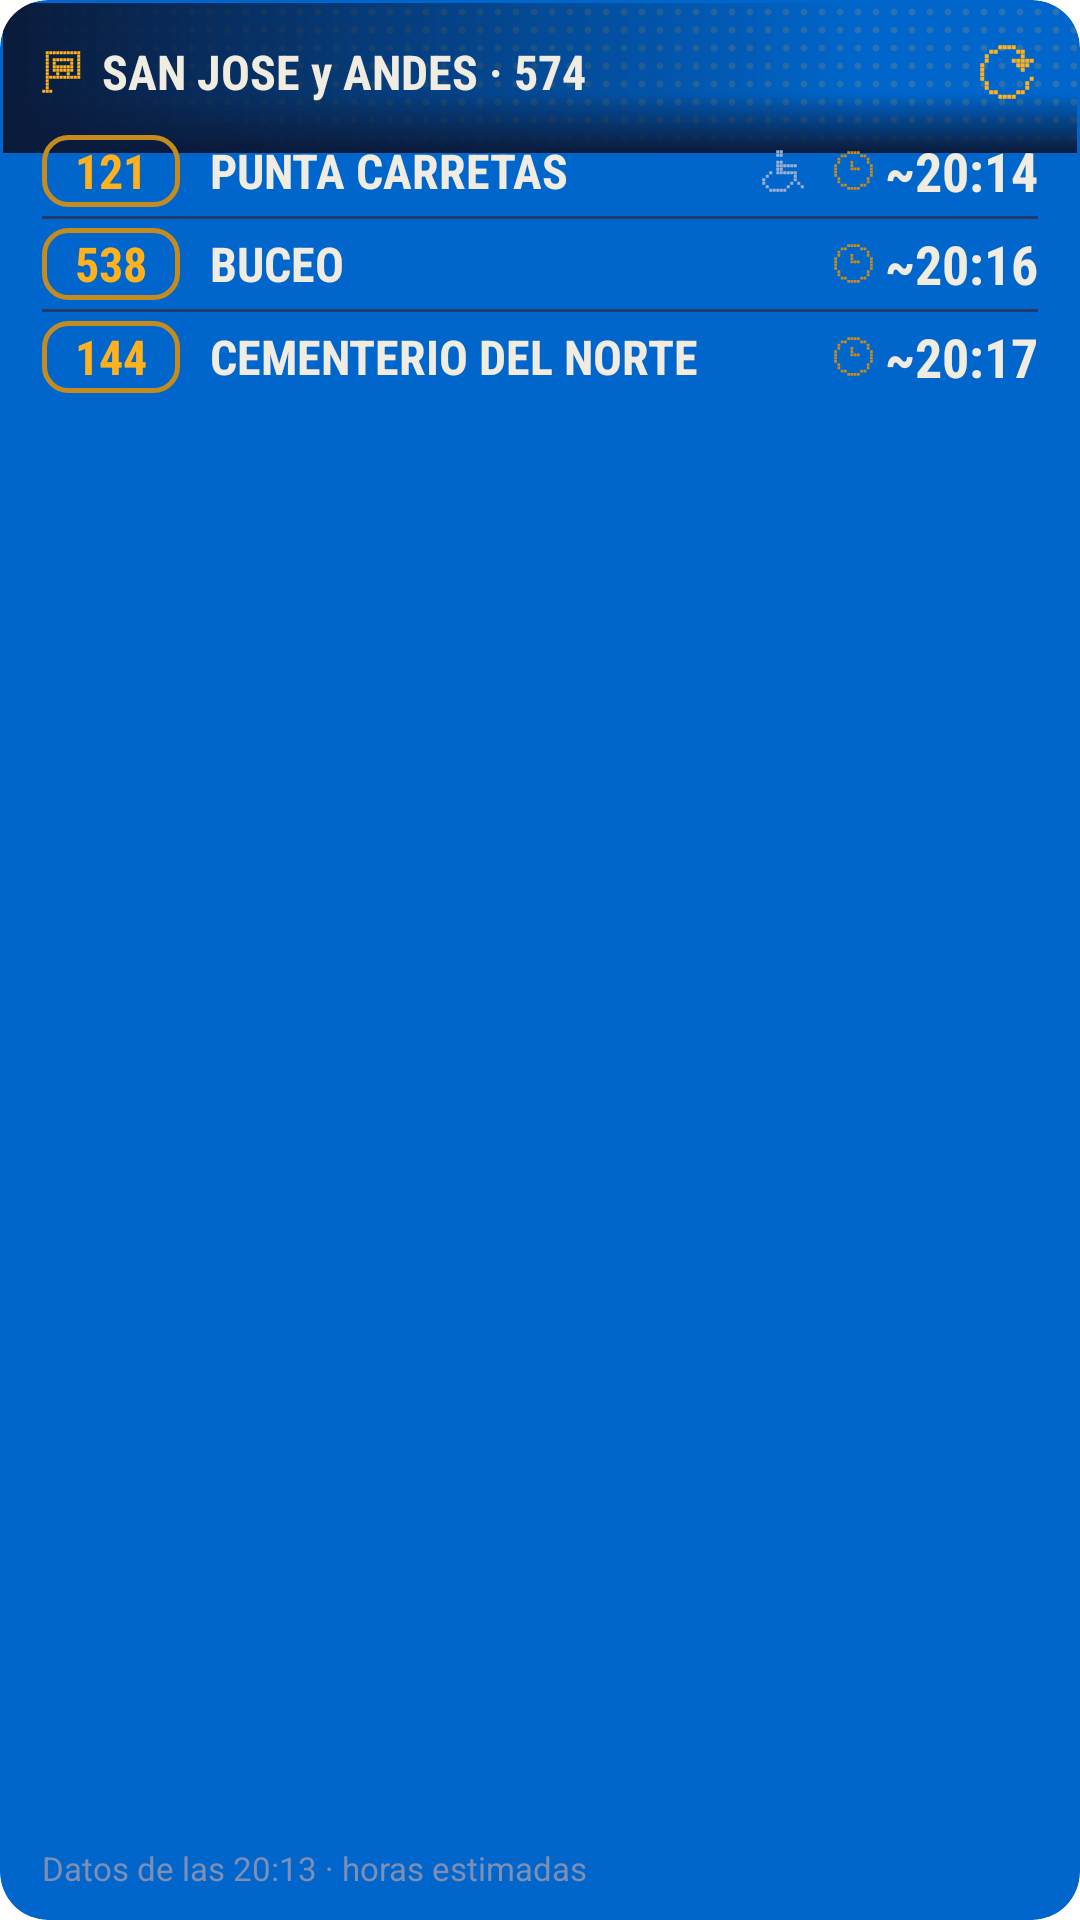

Where to tap for icons on this 1080×1920 app screen, as [x,y]:
widget accessible: [783,176]
widget clock dim: [853,170], [853,263], [853,356]
